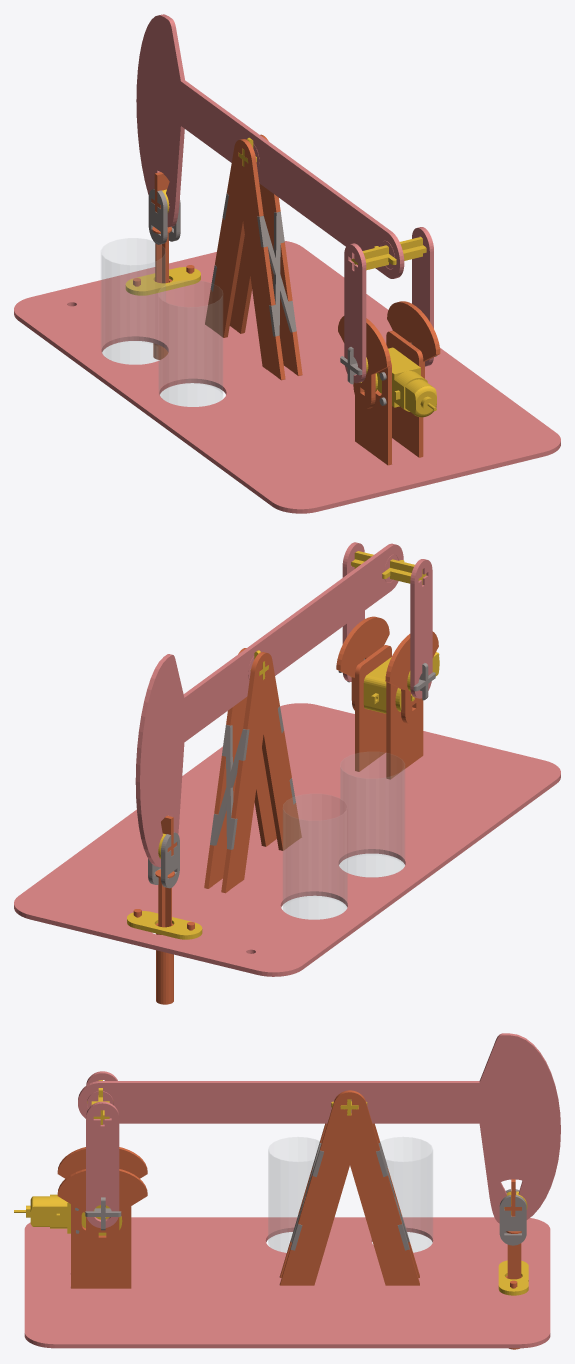
Rendered from asset.gltf.
3 renders of one model, top to bottom at view 1: azimuth 30°, elevation 25°; view 2: azimuth 150°, elevation 25°; view 3: azimuth 270°, elevation 25°, orthographic. The views are drawn at different scales.
Parts seen in each view (by area): view 1: 0, 3, 5, 2, 1, 4; view 2: 0, 3, 5, 2, 1, 4; view 3: 0, 3, 5, 2, 4, 1.
Boxes of the visible parts, bbox=[...] form: 0: bbox=[14, 14, 560, 513]; 3: bbox=[133, 134, 440, 465]; 5: bbox=[101, 238, 222, 406]; 2: bbox=[148, 189, 436, 405]; 1: bbox=[125, 137, 426, 391]; 4: bbox=[359, 347, 436, 417]; 0: bbox=[14, 542, 560, 976]; 3: bbox=[133, 616, 438, 1004]; 5: bbox=[283, 752, 404, 919]; 2: bbox=[148, 658, 435, 888]; 1: bbox=[127, 551, 426, 939]; 4: bbox=[363, 651, 439, 713]; 0: bbox=[24, 1033, 560, 1348]; 3: bbox=[57, 1090, 521, 1349]; 5: bbox=[268, 1137, 432, 1252]; 2: bbox=[75, 1141, 526, 1250]; 4: bbox=[14, 1194, 85, 1233]; 1: bbox=[87, 1080, 528, 1295].
Bounding box in the file's own units: 200 × 230 × 364.
